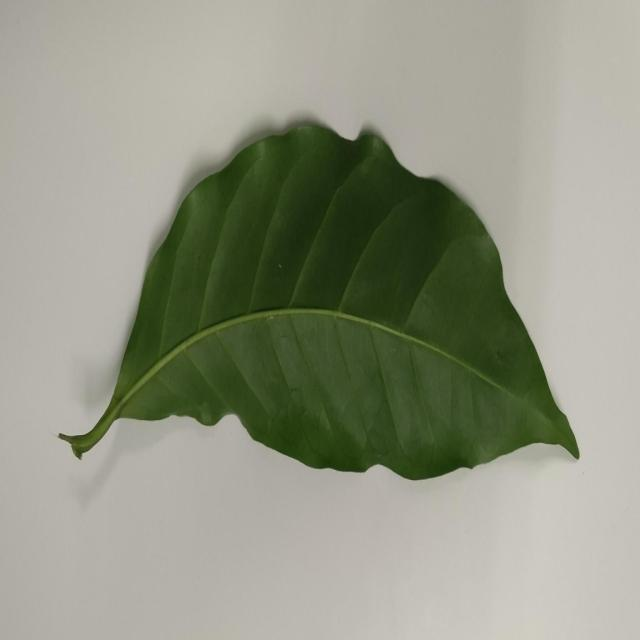Sanas: (56, 116, 580, 484)
